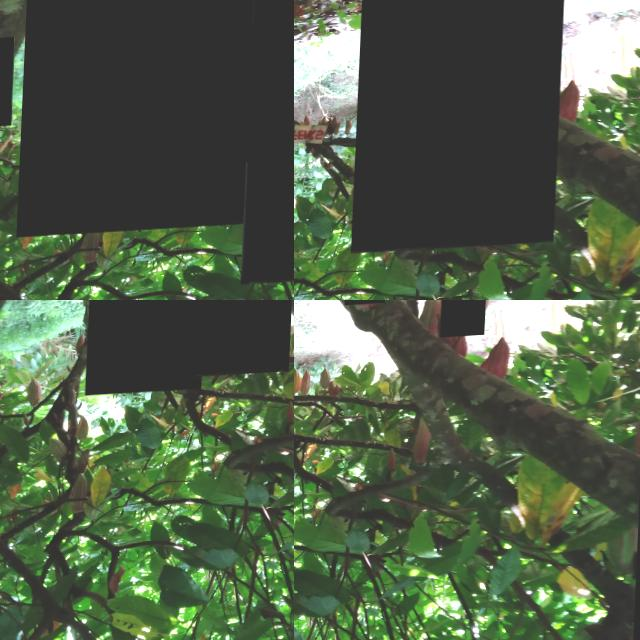Monilia: (20, 0, 266, 238), (199, 300, 294, 380)
Sana: (354, 0, 566, 256), (88, 300, 212, 397), (442, 300, 490, 342), (0, 38, 17, 128), (405, 427, 437, 466), (495, 347, 514, 384), (321, 372, 334, 394), (294, 373, 306, 395), (303, 376, 314, 398)
